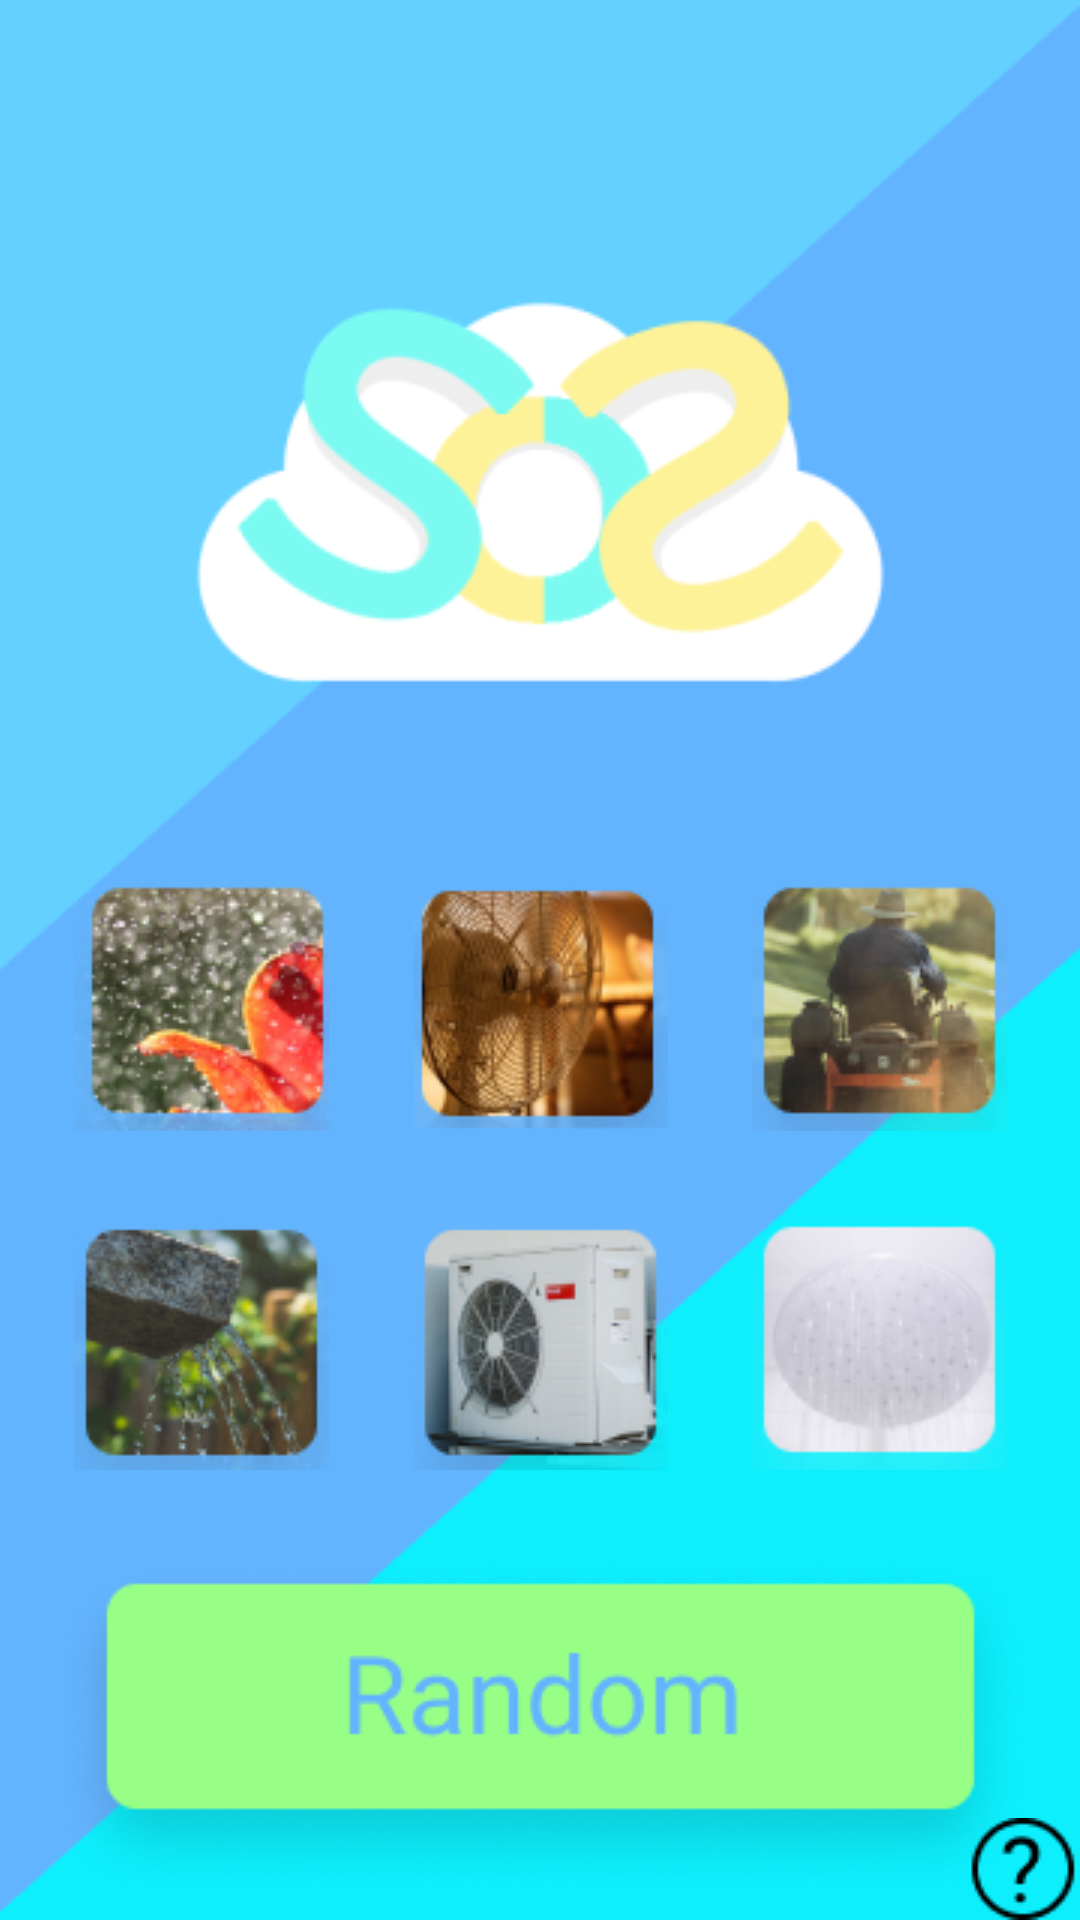

Icon bounding boxes for this 1080px×1920px phone screenshot, format BBox(x1, y1, x2, y2):
aboutusicon: BBox(971, 1818, 1075, 1920)
iconac: BBox(424, 1229, 668, 1470)
iconfan: BBox(421, 890, 654, 1127)
iconlawn: BBox(763, 887, 1007, 1131)
iconrain: BBox(91, 887, 324, 1131)
iconshower: BBox(763, 1226, 996, 1466)
iconstream: BBox(85, 1229, 318, 1463)
